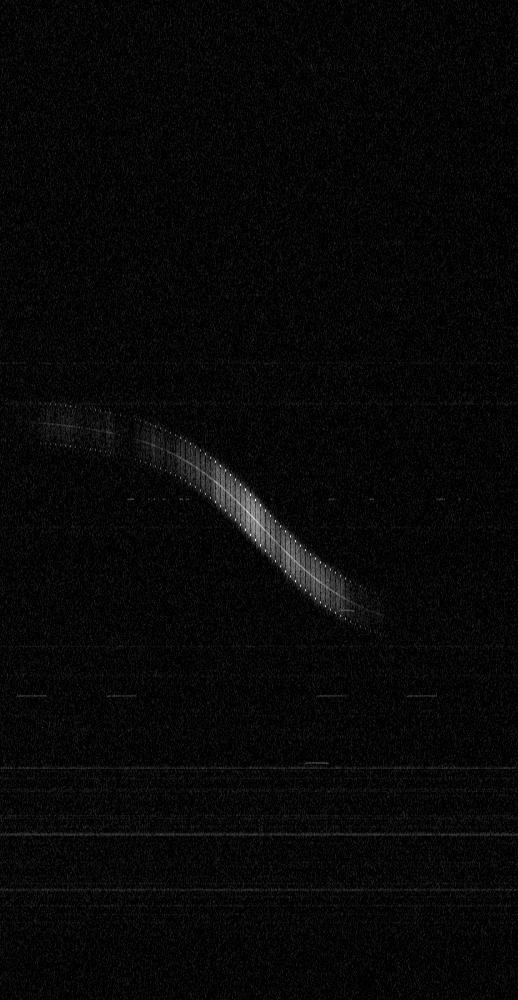signal: (0, 0, 517, 999)
